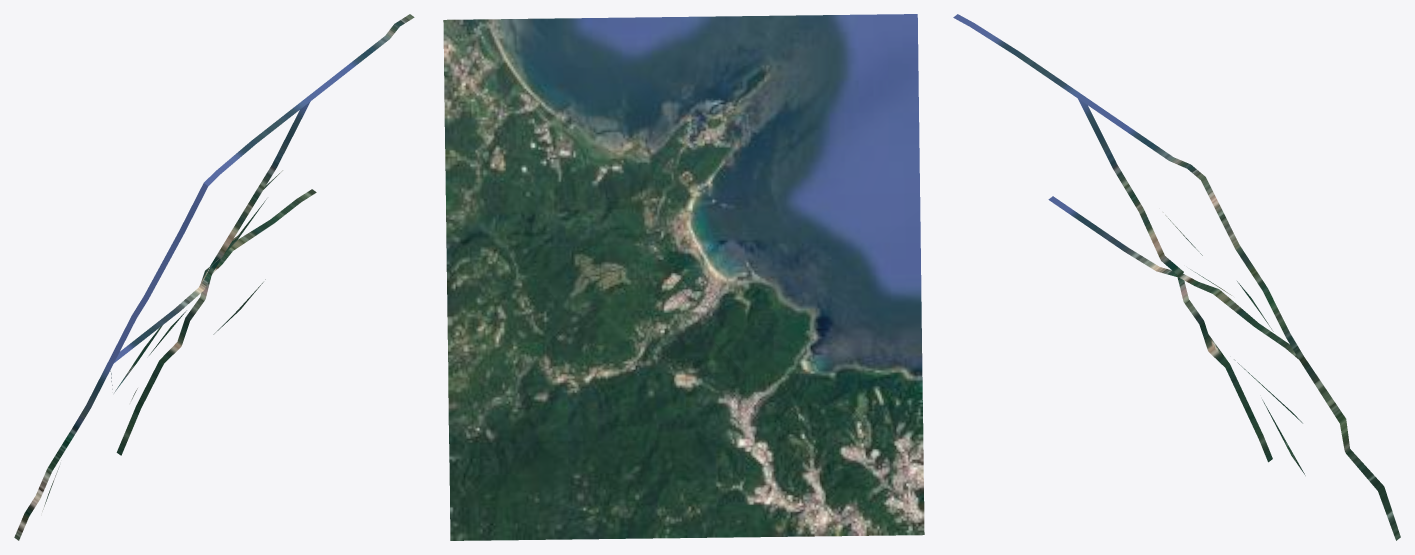
3 views of the same model, side by side, from view 1: azimuth 30°, elevation 25°; view 2: azimuth 150°, elevation 25°; view 3: azimuth 270°, elevation 25° (orthographic). The views are drawn at different scales.
Bounding box in the file's own units: 9823 × 8887 × 8602.
Materials: 1 (1 with a texture image).
